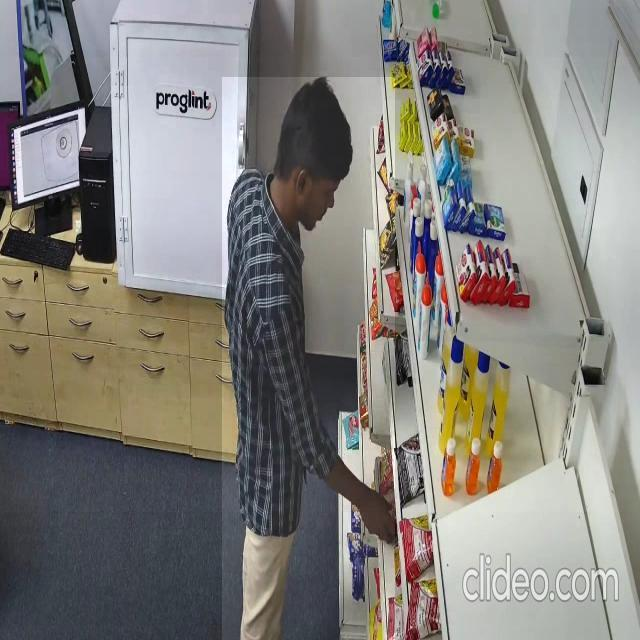normal: (222, 77, 395, 640)
